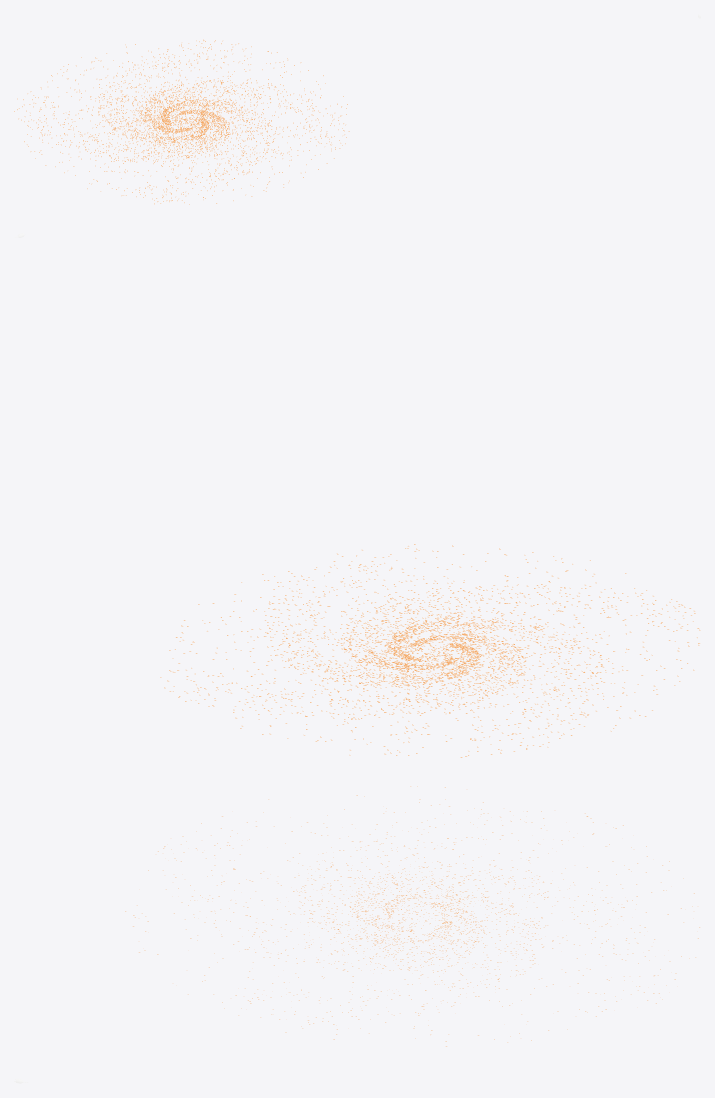
The model's file is Galaxy.glb.
3 renders of one model, top to bottom at view 1: azimuth 30°, elevation 25°; view 2: azimuth 150°, elevation 25°; view 3: azimuth 270°, elevation 25°, orthographic. The views are drawn at different scales.
Visible parts, largest first — view 1: Star.2518; view 2: Star.2518; view 3: Star.2518.
Part boxes in pixels (x1,y1,x2,y2): Star.2518: (14, 39, 349, 204); Star.2518: (160, 544, 700, 757); Star.2518: (125, 786, 699, 1046).
Bounding box in the file's own units: 13.82 × 2.71 × 9.
